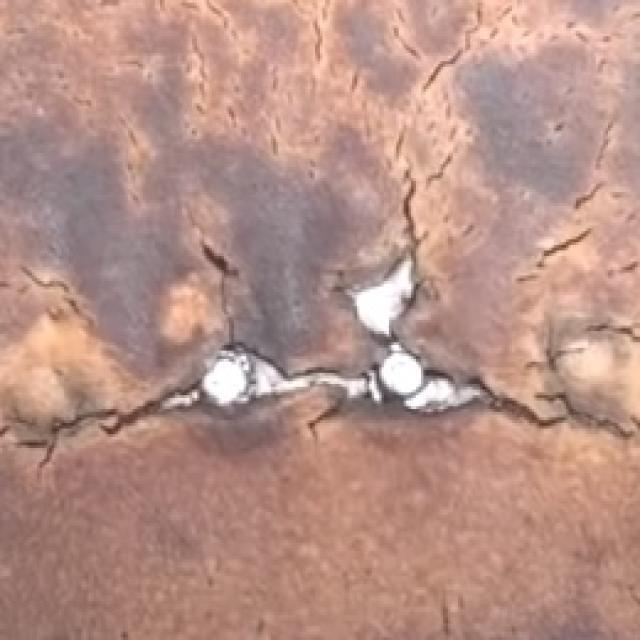crack: (35, 374, 198, 477), (501, 380, 597, 455), (520, 221, 597, 291), (375, 165, 429, 246)
